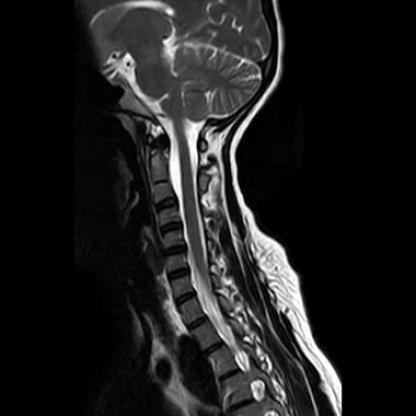Disc Bulgerotation: (165, 268, 192, 281), (161, 245, 190, 257), (175, 289, 197, 304)
